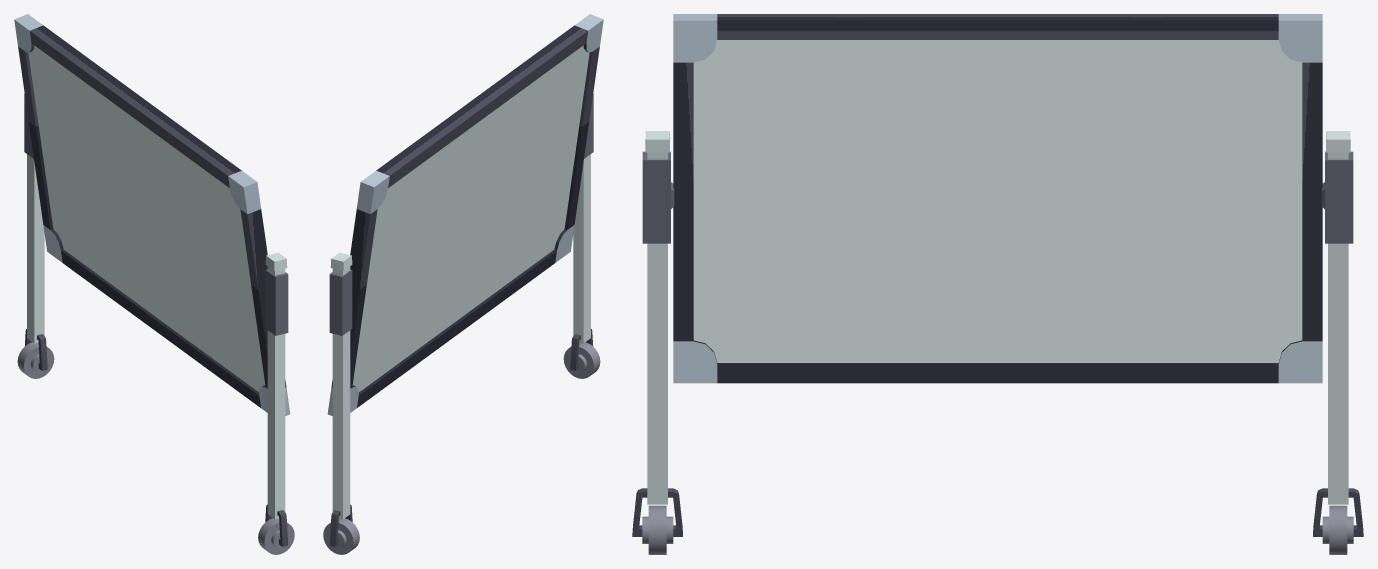
File: pizarron_02.fbx
The picture shows the model from 3 angles, left to right: view 1: azimuth 30°, elevation 25°; view 2: azimuth 150°, elevation 25°; view 3: azimuth 270°, elevation 25°; orthographic projection. The views are drawn at different scales.
Visible parts, largest first — view 1: pizarron_02; view 2: pizarron_02; view 3: pizarron_02.
Part boxes in pixels (x1,y1,x2,y2): pizarron_02: (14,14,294,554); pizarron_02: (323,14,603,554); pizarron_02: (632,14,1363,554).
Size of the model in its own units: 78.64 by 595 by 754.
